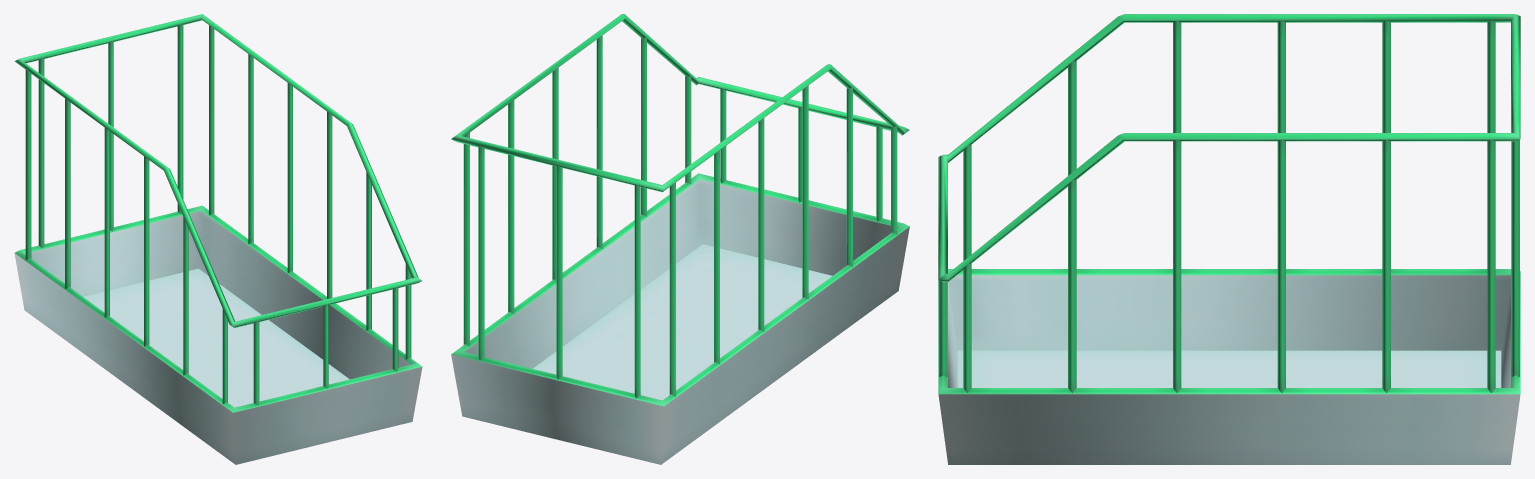
The model's file is KR_Wire_box_01_02.fbx.
The picture shows the model from 3 angles, left to right: view 1: azimuth 30°, elevation 25°; view 2: azimuth 150°, elevation 25°; view 3: azimuth 270°, elevation 25°; orthographic projection. The views are drawn at different scales.
Visible parts, largest first — view 1: kr_wire_box_01_02; view 2: kr_wire_box_01_02; view 3: kr_wire_box_01_02.
Boxes of the visible parts, x1,y1,x2,y2 form: kr_wire_box_01_02: [14, 14, 422, 464]; kr_wire_box_01_02: [451, 14, 909, 464]; kr_wire_box_01_02: [938, 14, 1520, 464].
Size of the model in its own units: 15 by 19 by 30.
